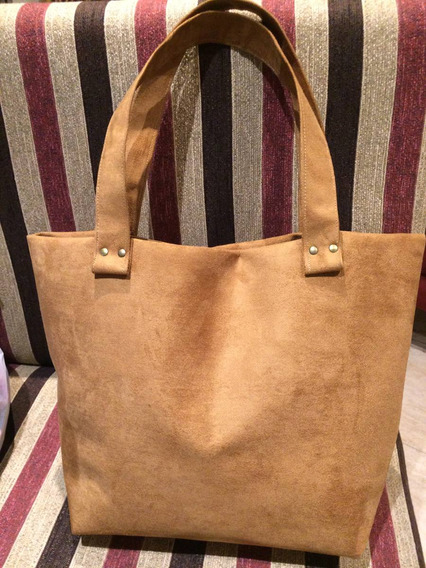cartera: (27, 1, 426, 560)
